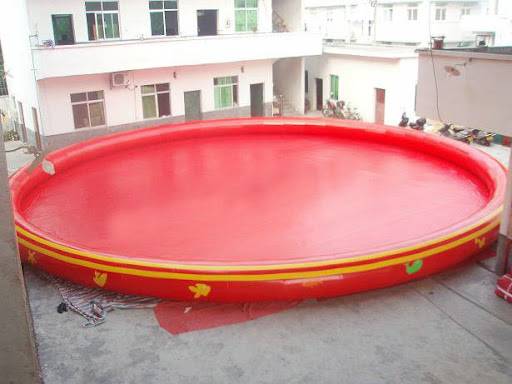su birakma alani: (5, 117, 511, 306)
